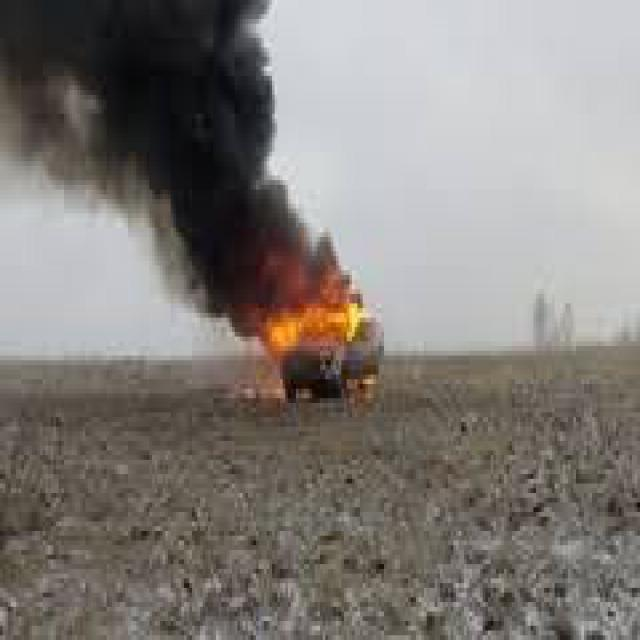Fire: (252, 278, 380, 384)
Smoke: (5, 0, 295, 342)
